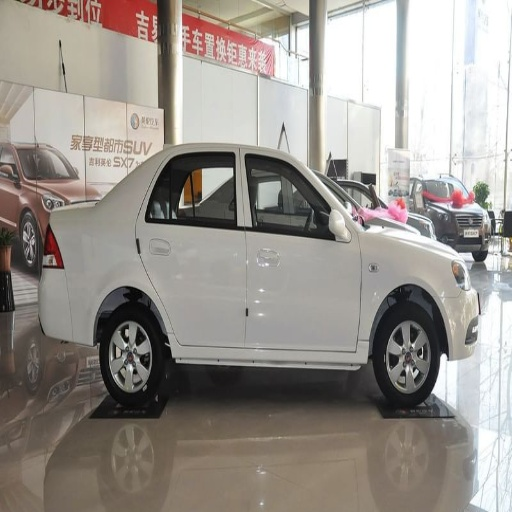back_right_door: (137, 148, 248, 350)
front_right_door: (244, 149, 361, 352)
